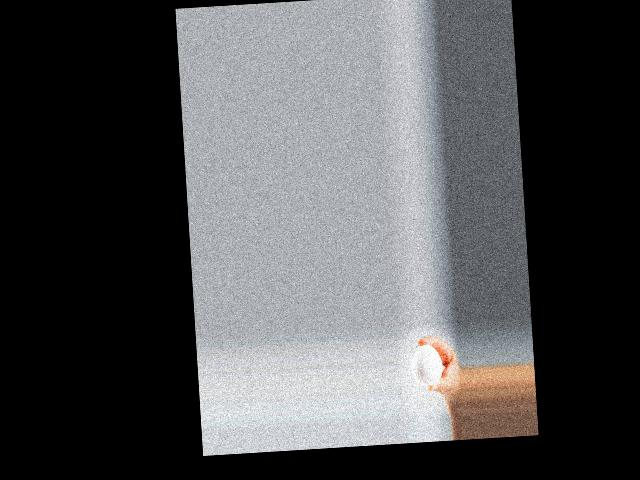egg: (410, 343, 442, 386)
